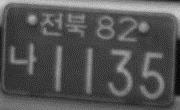1: (84, 45, 95, 96), (53, 42, 63, 95)
2: (118, 15, 137, 43)
3: (107, 48, 133, 97)
5: (139, 49, 165, 101)
8: (95, 14, 115, 41)
나: (8, 41, 37, 77)
전북_O: (40, 10, 87, 38)
